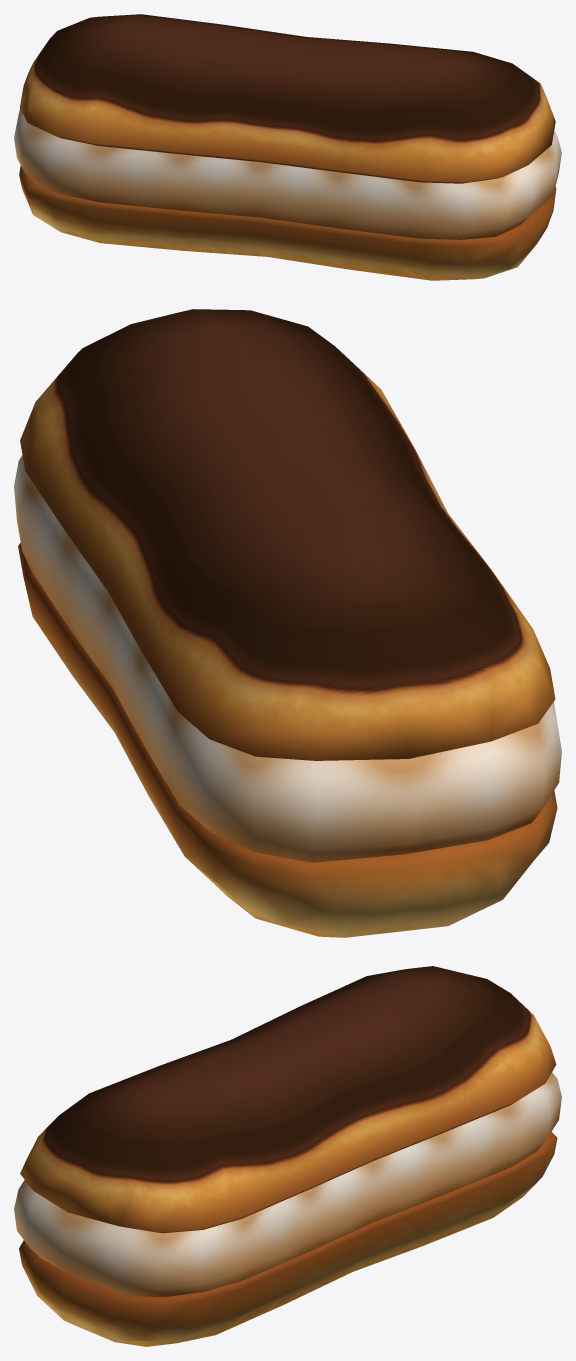
File: 009-Eclairs_01.FBX
3 renders of one model, top to bottom at view 1: azimuth 30°, elevation 25°; view 2: azimuth 150°, elevation 25°; view 3: azimuth 270°, elevation 25°, orthographic. The views are drawn at different scales.
Visible parts, largest first — view 1: 009-Eclairs_01; view 2: 009-Eclairs_01; view 3: 009-Eclairs_01.
Boxes of the visible parts, x1,y1,x2,y2 form: 009-Eclairs_01: (14,14,561,280); 009-Eclairs_01: (14,309,561,937); 009-Eclairs_01: (14,966,561,1346).
Size of the model in its own units: 17.69 by 8.01 by 17.69.
